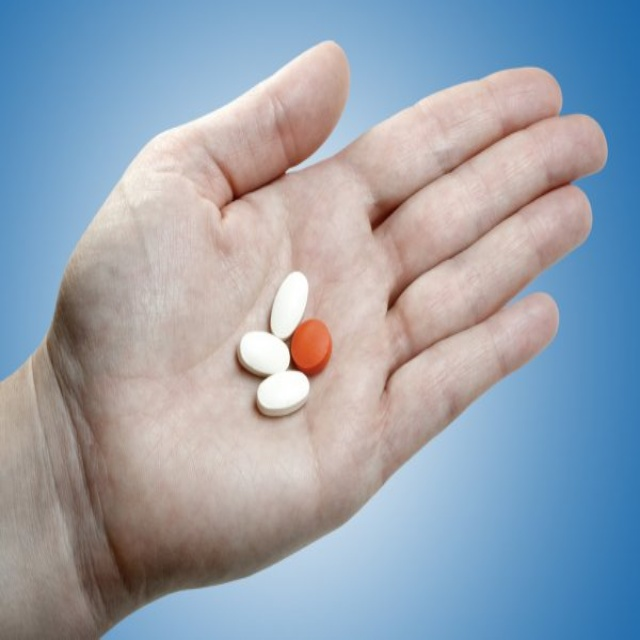pill: (251, 180, 290, 222), (241, 247, 292, 277), (270, 213, 312, 249), (221, 221, 273, 250)
